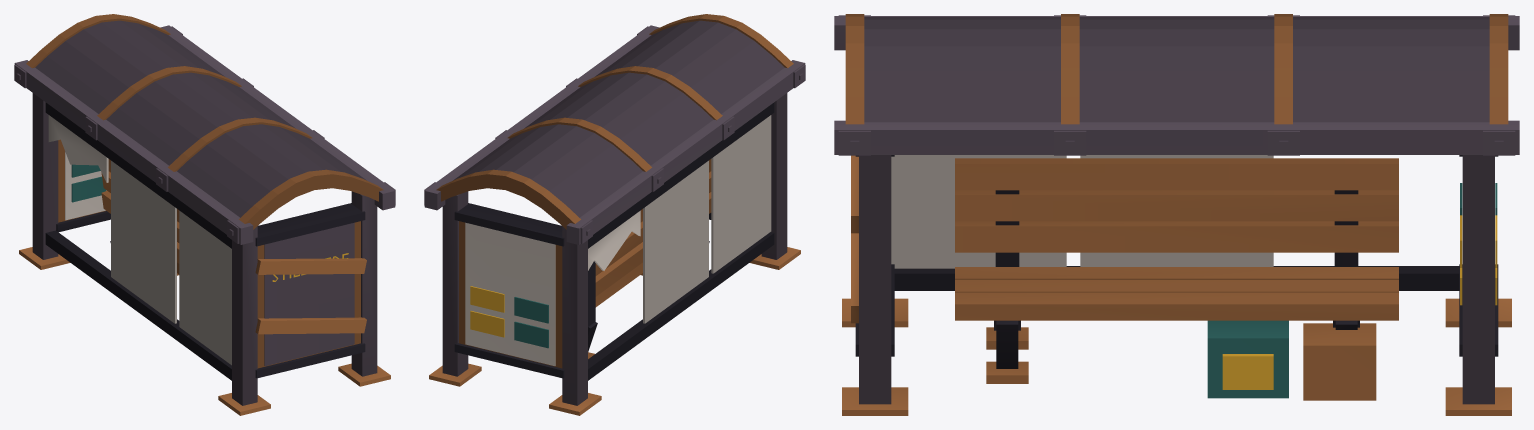
The picture shows the model from 3 angles, left to right: view 1: azimuth 30°, elevation 25°; view 2: azimuth 150°, elevation 25°; view 3: azimuth 270°, elevation 25°; orthographic projection. The views are drawn at different scales.
Visible parts, largest first — view 1: roof_pal_asphalt, body_pal_asphalt, body_pal_picketWhite, body_pal_uiDark, body_pal_woodWarm, roof_pal_woodWarm, body_pal_backpackTeal; view 2: roof_pal_asphalt, body_pal_picketWhite, body_pal_asphalt, body_pal_uiDark, roof_pal_woodWarm, body_pal_woodWarm, body_pal_backpackTeal, body_pal_schoolBusYellow; view 3: roof_pal_asphalt, body_pal_woodWarm, body_pal_asphalt, body_pal_picketWhite, roof_pal_woodWarm, body_pal_uiDark, body_pal_backpackTeal, body_pal_schoolBusYellow.
Part boxes in pixels (x1,y1,x2,y2): roof_pal_asphalt: (14, 20, 395, 244); body_pal_asphalt: (32, 93, 377, 405); body_pal_picketWhite: (48, 115, 231, 365); body_pal_uiDark: (45, 102, 365, 380); body_pal_woodWarm: (19, 139, 390, 415); roof_pal_woodWarm: (26, 14, 383, 229); body_pal_backpackTeal: (71, 164, 106, 202); roof_pal_asphalt: (424, 20, 805, 244); body_pal_picketWhite: (465, 115, 771, 365); body_pal_asphalt: (442, 93, 787, 405); body_pal_uiDark: (454, 102, 774, 380); roof_pal_woodWarm: (436, 14, 793, 229); body_pal_woodWarm: (429, 159, 800, 415); body_pal_backpackTeal: (514, 297, 548, 348); body_pal_schoolBusYellow: (470, 286, 504, 337); roof_pal_asphalt: (834, 15, 1519, 155); body_pal_woodWarm: (842, 155, 1511, 415); body_pal_asphalt: (859, 155, 1494, 404); body_pal_picketWhite: (891, 155, 1273, 268); roof_pal_woodWarm: (845, 14, 1508, 124); body_pal_uiDark: (855, 155, 1498, 368); body_pal_backpackTeal: (1207, 183, 1497, 398); body_pal_schoolBusYellow: (1222, 215, 1497, 389).
Size of the model in its own units: 2.04 by 2.67 by 4.97.
